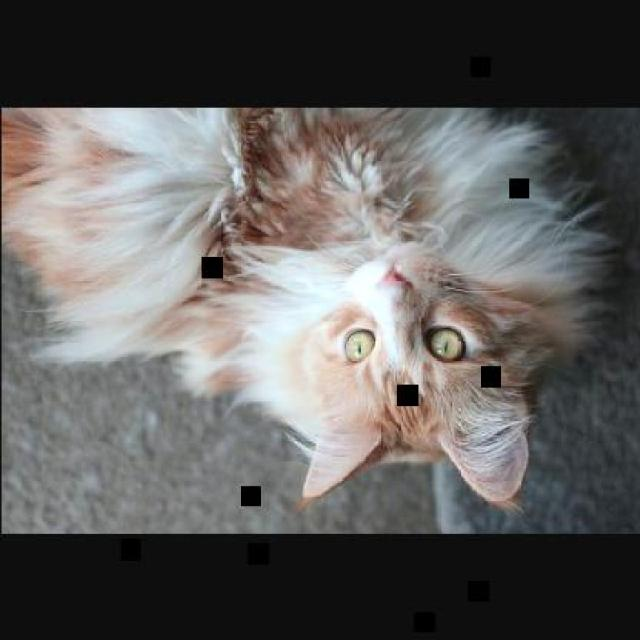unauthorized: (0, 105, 622, 512)
